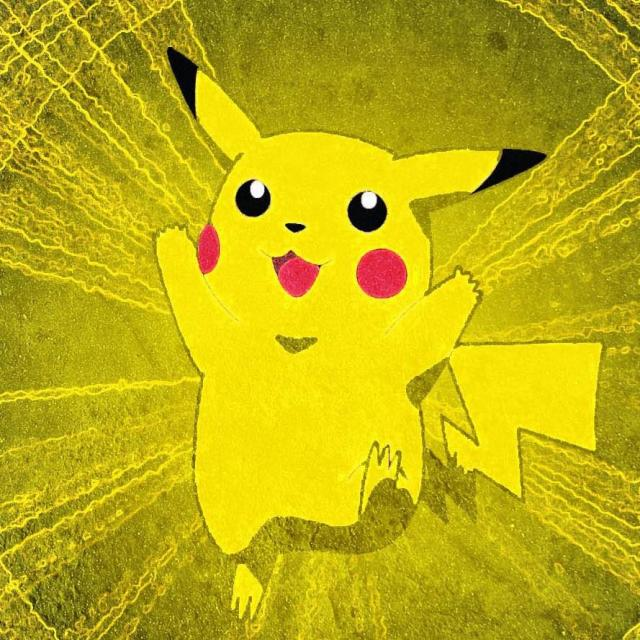pikachu: (155, 50, 606, 622)
